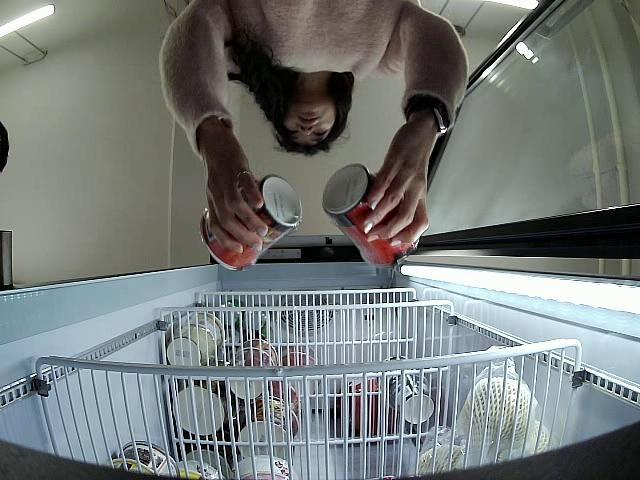02_shinRamen_S: (194, 174, 300, 270), (321, 164, 408, 272)
